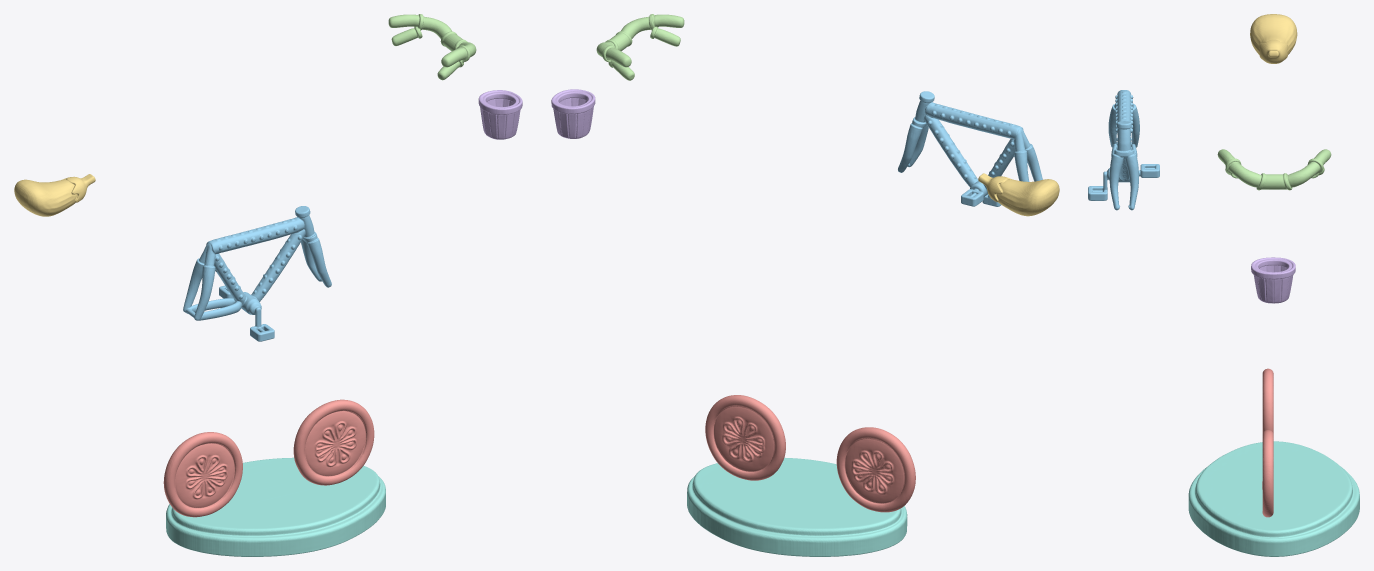
The model's file is exploded_parts.glb.
3 views of the same model, side by side, from view 1: azimuth 30°, elevation 25°; view 2: azimuth 150°, elevation 25°; view 3: azimuth 270°, elevation 25° (orthographic). The views are drawn at different scales.
Parts seen in each view (by area): view 1: part_006_01f4b820_e6_restored_001, part_001_01f4b820_e1_restored_001, part_002_01f4b820_e2_restored_001, part_003_01f4b820_e3_restored_001, part_004_01f4b820_e4_restored_001, part_005_01f4b820_e5_restored_001; view 2: part_006_01f4b820_e6_restored_001, part_001_01f4b820_e1_restored_001, part_002_01f4b820_e2_restored_001, part_003_01f4b820_e3_restored_001, part_004_01f4b820_e4_restored_001, part_005_01f4b820_e5_restored_001; view 3: part_006_01f4b820_e6_restored_001, part_002_01f4b820_e2_restored_001, part_004_01f4b820_e4_restored_001, part_003_01f4b820_e3_restored_001, part_001_01f4b820_e1_restored_001, part_005_01f4b820_e5_restored_001.
Boxes of the visible parts, x1,y1,x2,y2 form: part_006_01f4b820_e6_restored_001: (166,457,385,556); part_001_01f4b820_e1_restored_001: (163,399,374,517); part_002_01f4b820_e2_restored_001: (183,206,331,341); part_003_01f4b820_e3_restored_001: (14,174,95,216); part_004_01f4b820_e4_restored_001: (388,14,476,80); part_005_01f4b820_e5_restored_001: (478,90,522,139); part_006_01f4b820_e6_restored_001: (687,457,907,556); part_001_01f4b820_e1_restored_001: (705,395,915,512); part_002_01f4b820_e2_restored_001: (898,91,1042,206); part_003_01f4b820_e3_restored_001: (978,173,1059,216); part_004_01f4b820_e4_restored_001: (596,14,684,80); part_005_01f4b820_e5_restored_001: (551,89,595,138); part_006_01f4b820_e6_restored_001: (1188,441,1359,556); part_002_01f4b820_e2_restored_001: (1088,90,1159,210); part_004_01f4b820_e4_restored_001: (1217,149,1331,190); part_003_01f4b820_e3_restored_001: (1250,14,1297,63); part_001_01f4b820_e1_restored_001: (1262,368,1273,517); part_005_01f4b820_e5_restored_001: (1251,257,1295,303).
Size of the model in its own units: 2.25 by 1.93 by 1.11.
